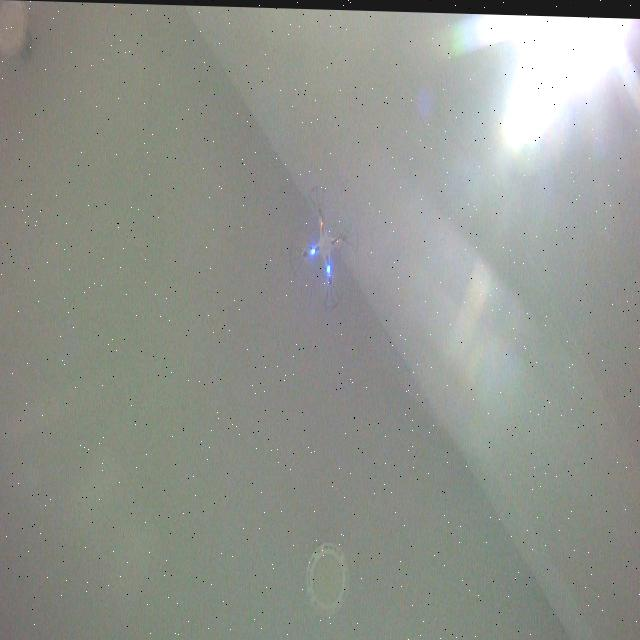drone: (289, 182, 359, 310)
